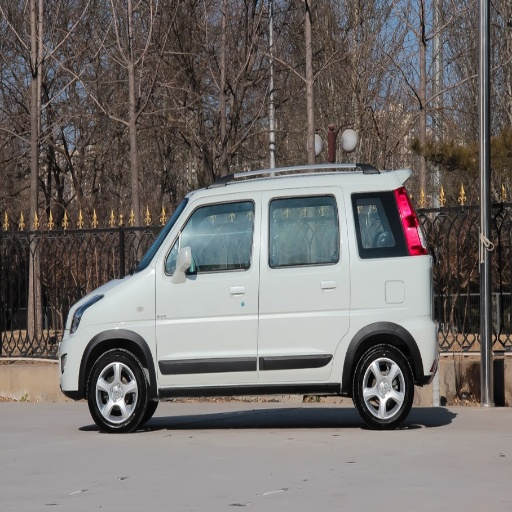back_left_door: (262, 192, 350, 372)
front_left_door: (156, 196, 259, 379)
trunk: (345, 256, 431, 371)
